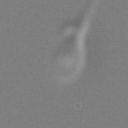abnormal: (50, 1, 104, 39)
